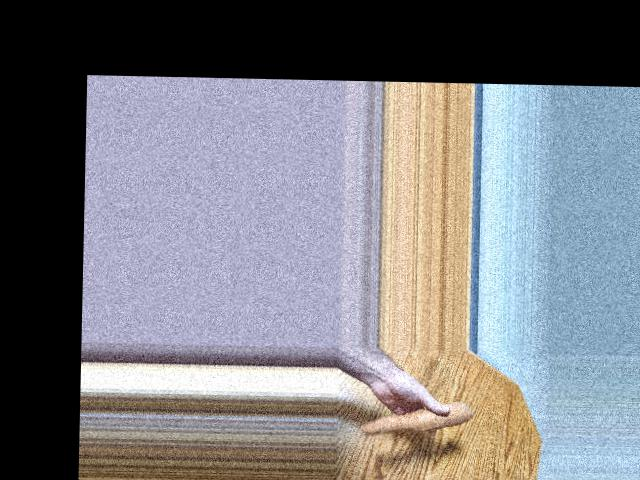sweet_potato: (362, 409, 471, 433)
